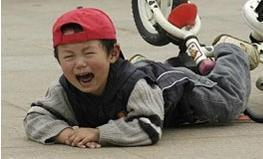Fall-Detected: (12, 0, 263, 155)
